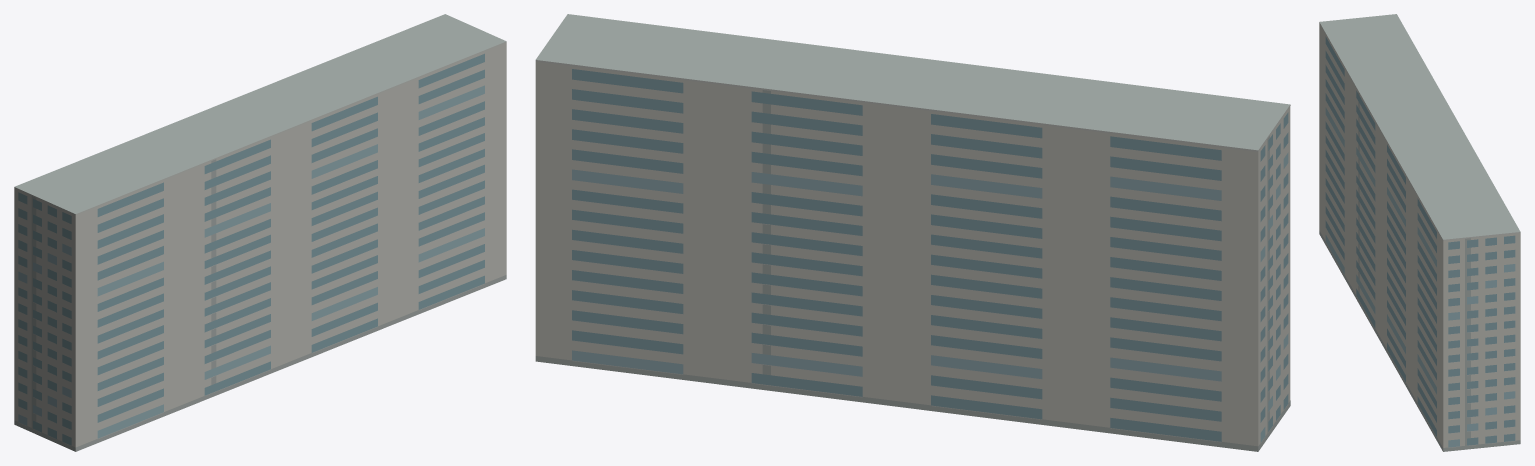
File: residential-b4b8ff02-c83b-40d1-947b-af133457d19f.glb
3 renders of one model, left to right at view 1: azimuth 30°, elevation 25°; view 2: azimuth 150°, elevation 25°; view 3: azimuth 270°, elevation 25°, orthographic. The views are drawn at different scales.
Parts seen in each view (by area): view 1: residential-b4b8ff02-c83b-40d1-947b-af133457d19f.tmp; view 2: residential-b4b8ff02-c83b-40d1-947b-af133457d19f.tmp; view 3: residential-b4b8ff02-c83b-40d1-947b-af133457d19f.tmp.
Part boxes in pixels (left/top/right/bottom): residential-b4b8ff02-c83b-40d1-947b-af133457d19f.tmp: left=14, top=14, right=506, bottom=451; residential-b4b8ff02-c83b-40d1-947b-af133457d19f.tmp: left=535, top=14, right=1290, bottom=451; residential-b4b8ff02-c83b-40d1-947b-af133457d19f.tmp: left=1319, top=14, right=1520, bottom=451.
Size of the model in its own units: 104 by 45.75 by 39.35.
